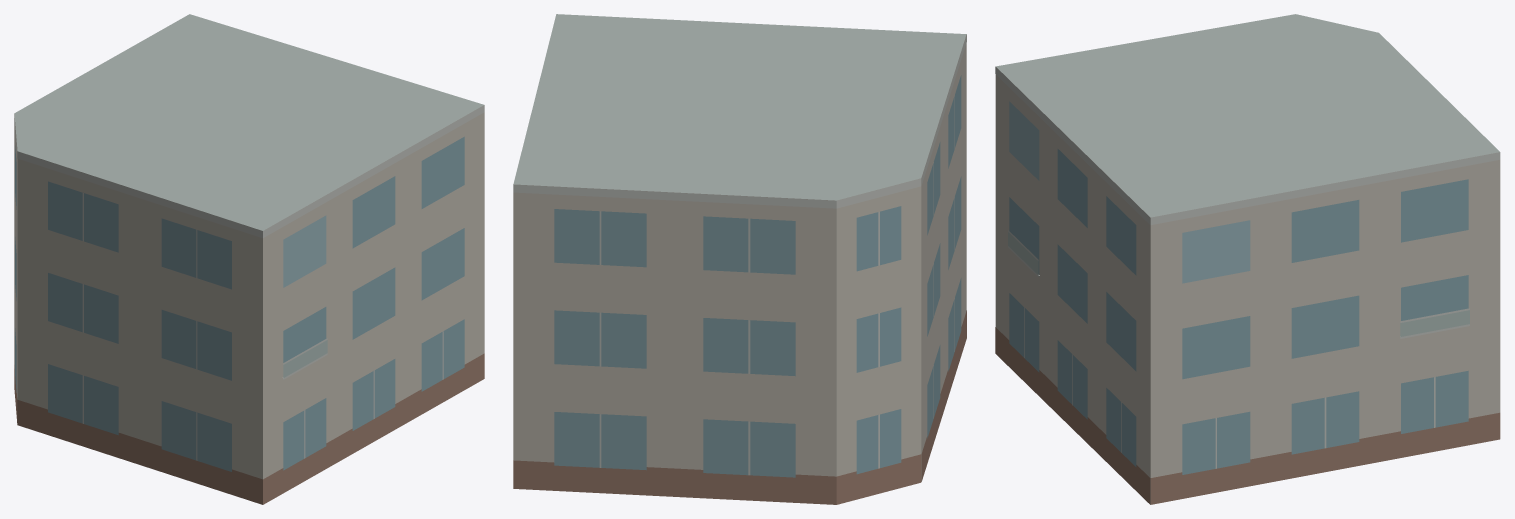
Rendered from survey-upis-32848313.glb.
3 views of the same model, side by side, from view 1: azimuth 30°, elevation 25°; view 2: azimuth 150°, elevation 25°; view 3: azimuth 270°, elevation 25° (orthographic). The views are drawn at different scales.
Parts seen in each view (by area): view 1: survey-upis-32848313.tmp; view 2: survey-upis-32848313.tmp; view 3: survey-upis-32848313.tmp.
Part boxes in pixels (box(x1,y1,x2,y2)): survey-upis-32848313.tmp: box(14, 14, 484, 504); survey-upis-32848313.tmp: box(513, 14, 966, 504); survey-upis-32848313.tmp: box(995, 14, 1500, 504).
Bounding box in the file's own units: 13.92 × 9.15 × 14.58.
